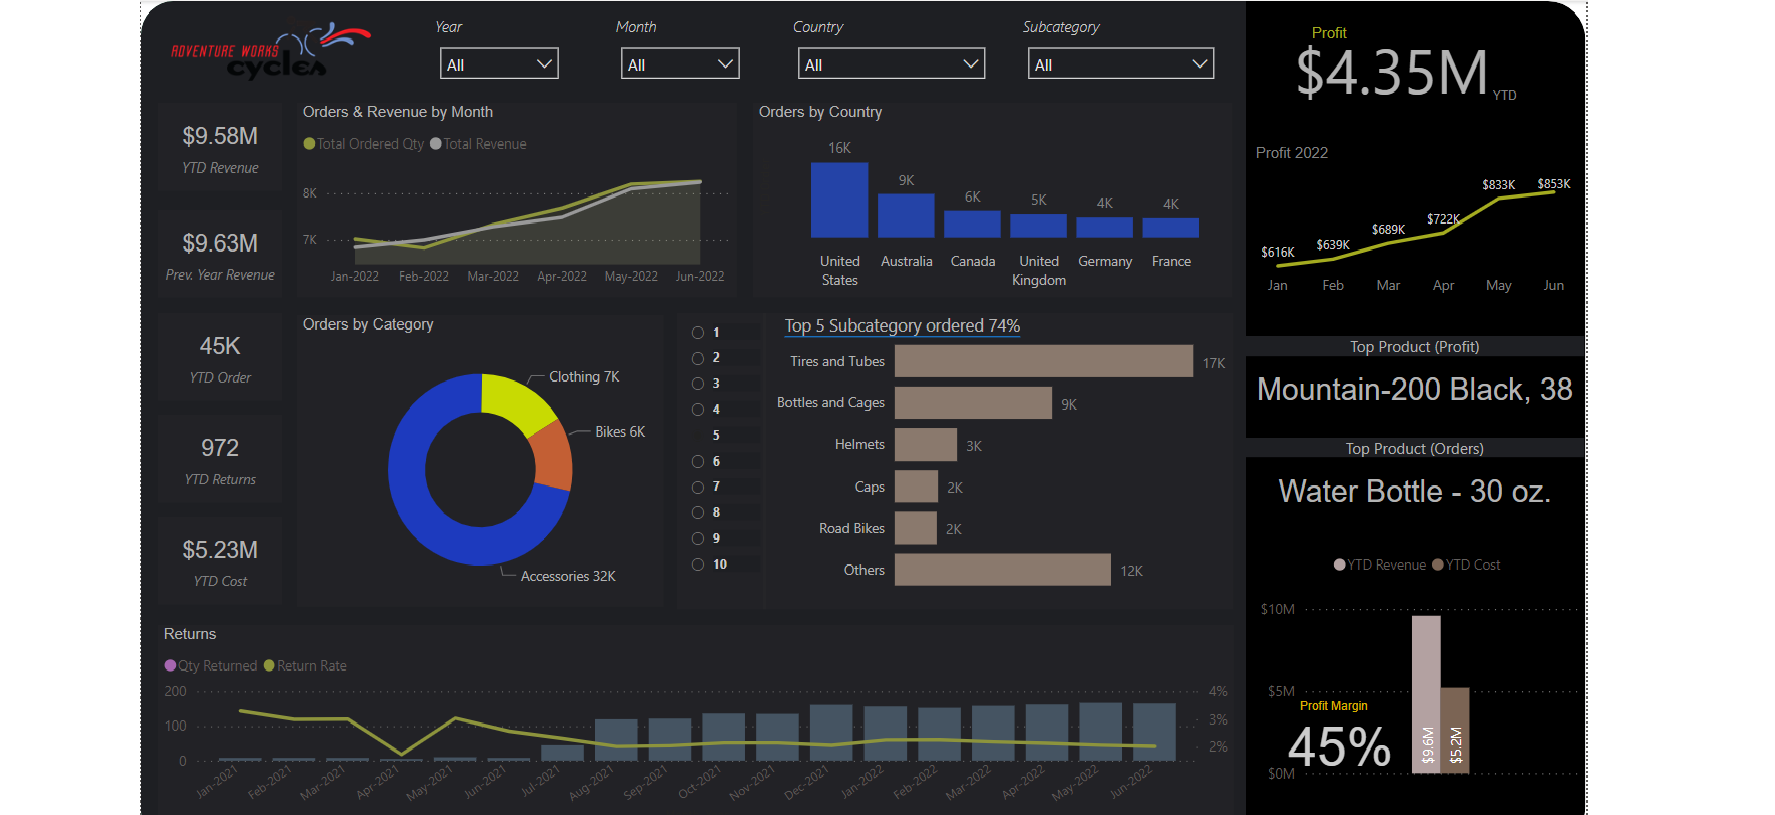

The page's visual inventory and layout, read from the dashboard file:
{"tool":"powerbi","page":{"name":"Main","canvas":[1280,720],"ordinal":0},"visuals":[{"type":"shape","box":[0,0,1010,720],"z":0},{"type":"slicer","fields":{"Values":["Top N Selection.Value"]},"box":[475,266,78.9,252.7],"z":0,"group":"g2"},{"type":"clusteredBarChart","title":"Orders by Subcategory","fields":{"Category":["Pseudo Subcategory.SubcategoryName"],"Y":["Date.Top N orders"]},"box":[551.1,266,415.9,253],"z":0,"group":"g1"},{"type":"shape","box":[0,0,986.5,720],"z":1000},{"type":"shape","box":[979,0,301,720],"z":2000},{"type":"image","box":[15.1,7.1,202.2,65.6],"z":3000},{"type":"areaChart","title":"Orders & Revenue by Month","fields":{"Category":["Date.Month_Year"],"Y":["Date.Total Ordered Qty"],"Y2":["Date.Total Revenue"]},"box":[138,86.9,390,165.9],"z":4000},{"type":"donutChart","title":"Orders by Category","fields":{"Category":["AW_Product_Categories.CategoryName"],"Y":["Date.YTD Order"]},"box":[138,267.8,325.4,249.2],"z":5000},{"type":"clusteredColumnChart","title":"Orders by Country","fields":{"Category":["AW_Territories.Country"],"Y":["Date.YTD Order"]},"box":[543,86.9,424.3,165.9],"z":6000},{"type":"card","fields":{"Values":["Date.YTD Order"]},"box":[15.2,266.3,110.1,75],"z":6000,"group":"g3"},{"type":"card","fields":{"Values":["Date.YTD Profit"]},"box":[998.4,0,218.1,110],"z":7000},{"type":"card","fields":{"Values":["Date.YTD Revenue"]},"box":[15.2,86.9,110.1,75],"z":7000,"group":"g3"},{"type":"lineChart","title":"Profit 2022","fields":{"Y":["Date.Profit 2022"],"Category":["Date.Month"]},"box":[982.5,121.5,294.4,139.2],"z":8000},{"type":"card","fields":{"Values":["Date.Prev. Year Rev"]},"box":[15.2,177.8,110.1,75],"z":8000,"group":"g3"},{"type":"textbox","box":[1032.1,13.3,61.2,28.4],"z":9000},{"type":"card","fields":{"Values":["Date.YTD Returns"]},"box":[15.2,353.3,110.1,75],"z":9000,"group":"g3"},{"type":"textbox","box":[1192.6,65.6,47,28.4],"z":10000},{"type":"group","id":"g1","title":"Group 3","box":[551.1,266,415.9,253],"z":10000,"group":"g4"},{"type":"textbox","box":[565.4,260.8,240,35.9],"z":11000},{"type":"group","id":"g2","title":"Group 2","box":[475,266,78.9,252.7],"z":11000,"group":"g4"},{"type":"card","title":"Top Product (Profit)","fields":{"Values":["Min(AW_Products.ProductName Hierarchy.ProductName)"]},"box":[979,286,299.6,73.9],"z":12000},{"type":"card","title":"Top Product (Orders)","fields":{"Values":["Min(AW_Products.ProductName Hierarchy.ProductName)"]},"box":[979,372.5,299.6,73.9],"z":13000},{"type":"card","fields":{"Values":["Date.YTD Cost"]},"box":[15.2,439.4,110.1,75],"z":13000,"group":"g3"},{"type":"clusteredColumnChart","fields":{"Y":["Date.YTD Revenue","Date.YTD Cost"]},"box":[986,461.1,293.5,211.9],"z":14000},{"type":"card","fields":{"Values":["Date.Profit%"]},"box":[1005.5,586.1,115.3,94.9],"z":15000},{"type":"textbox","box":[1021.5,586.1,82.5,28.4],"z":16000},{"type":"slicer","title":"Year","fields":{"Values":["Date.Year"]},"box":[255.6,12,125,60],"z":17000},{"type":"slicer","title":"Country","fields":{"Values":["AW_Territories.Country"]},"box":[572.8,12,185,60],"z":18000},{"type":"slicer","title":"Subcategory","fields":{"Values":["AW_Product_Subcategories.SubcategoryName"]},"box":[776,12,185,60],"z":19000},{"type":"slicer","title":"Month","fields":{"Values":["Date.Month"]},"box":[415.9,12,125,60.3],"z":20000},{"type":"lineStackedColumnComboChart","title":"Returns","fields":{"Category":["Date.Month_Year"],"Y":["Date.Qty Returned"],"Y2":["Date.Return Rate"]},"box":[15.2,531.9,953,173.1],"z":21000},{"type":"group","id":"g3","title":"Group 1","box":[15.2,86.9,110.1,427.5],"z":22000},{"type":"group","id":"g4","title":"Group 4","box":[475,266,491.9,253],"z":23000}]}

Visuals, with their boxes on the page's 1280x720 design canvas (x1, y1, x2, y2). These are canvas units, not pixel positions in the 1775x815 screenshot, which may show the page scaled, cropped or inside an application window:
shape: Rect(0, 0, 1010, 720)
slicer - Top N Selection.Value: Rect(475, 266, 554, 519)
"Orders by Subcategory" clusteredBarChart: Rect(551, 266, 967, 519)
shape: Rect(0, 0, 986, 720)
shape: Rect(979, 0, 1280, 720)
image: Rect(15, 7, 217, 73)
"Orders & Revenue by Month" areaChart: Rect(138, 87, 528, 253)
"Orders by Category" donutChart: Rect(138, 268, 463, 517)
"Orders by Country" clusteredColumnChart: Rect(543, 87, 967, 253)
card - Date.YTD Order: Rect(15, 266, 125, 341)
card - Date.YTD Profit: Rect(998, 0, 1216, 110)
card - Date.YTD Revenue: Rect(15, 87, 125, 162)
"Profit 2022" lineChart: Rect(982, 122, 1277, 261)
card - Date.Prev. Year Rev: Rect(15, 178, 125, 253)
textbox: Rect(1032, 13, 1093, 42)
card - Date.YTD Returns: Rect(15, 353, 125, 428)
textbox: Rect(1193, 66, 1240, 94)
"Group 3" group: Rect(551, 266, 967, 519)
textbox: Rect(565, 261, 805, 297)
"Group 2" group: Rect(475, 266, 554, 519)
"Top Product (Profit)" card: Rect(979, 286, 1279, 360)
"Top Product (Orders)" card: Rect(979, 372, 1279, 446)
card - Date.YTD Cost: Rect(15, 439, 125, 514)
clusteredColumnChart - Date.YTD Revenue x Date.YTD Cost: Rect(986, 461, 1280, 673)
card - Date.Profit%: Rect(1006, 586, 1121, 681)
textbox: Rect(1022, 586, 1104, 614)
"Year" slicer: Rect(256, 12, 381, 72)
"Country" slicer: Rect(573, 12, 758, 72)
"Subcategory" slicer: Rect(776, 12, 961, 72)
"Month" slicer: Rect(416, 12, 541, 72)
"Returns" lineStackedColumnComboChart: Rect(15, 532, 968, 705)
"Group 1" group: Rect(15, 87, 125, 514)
"Group 4" group: Rect(475, 266, 967, 519)
